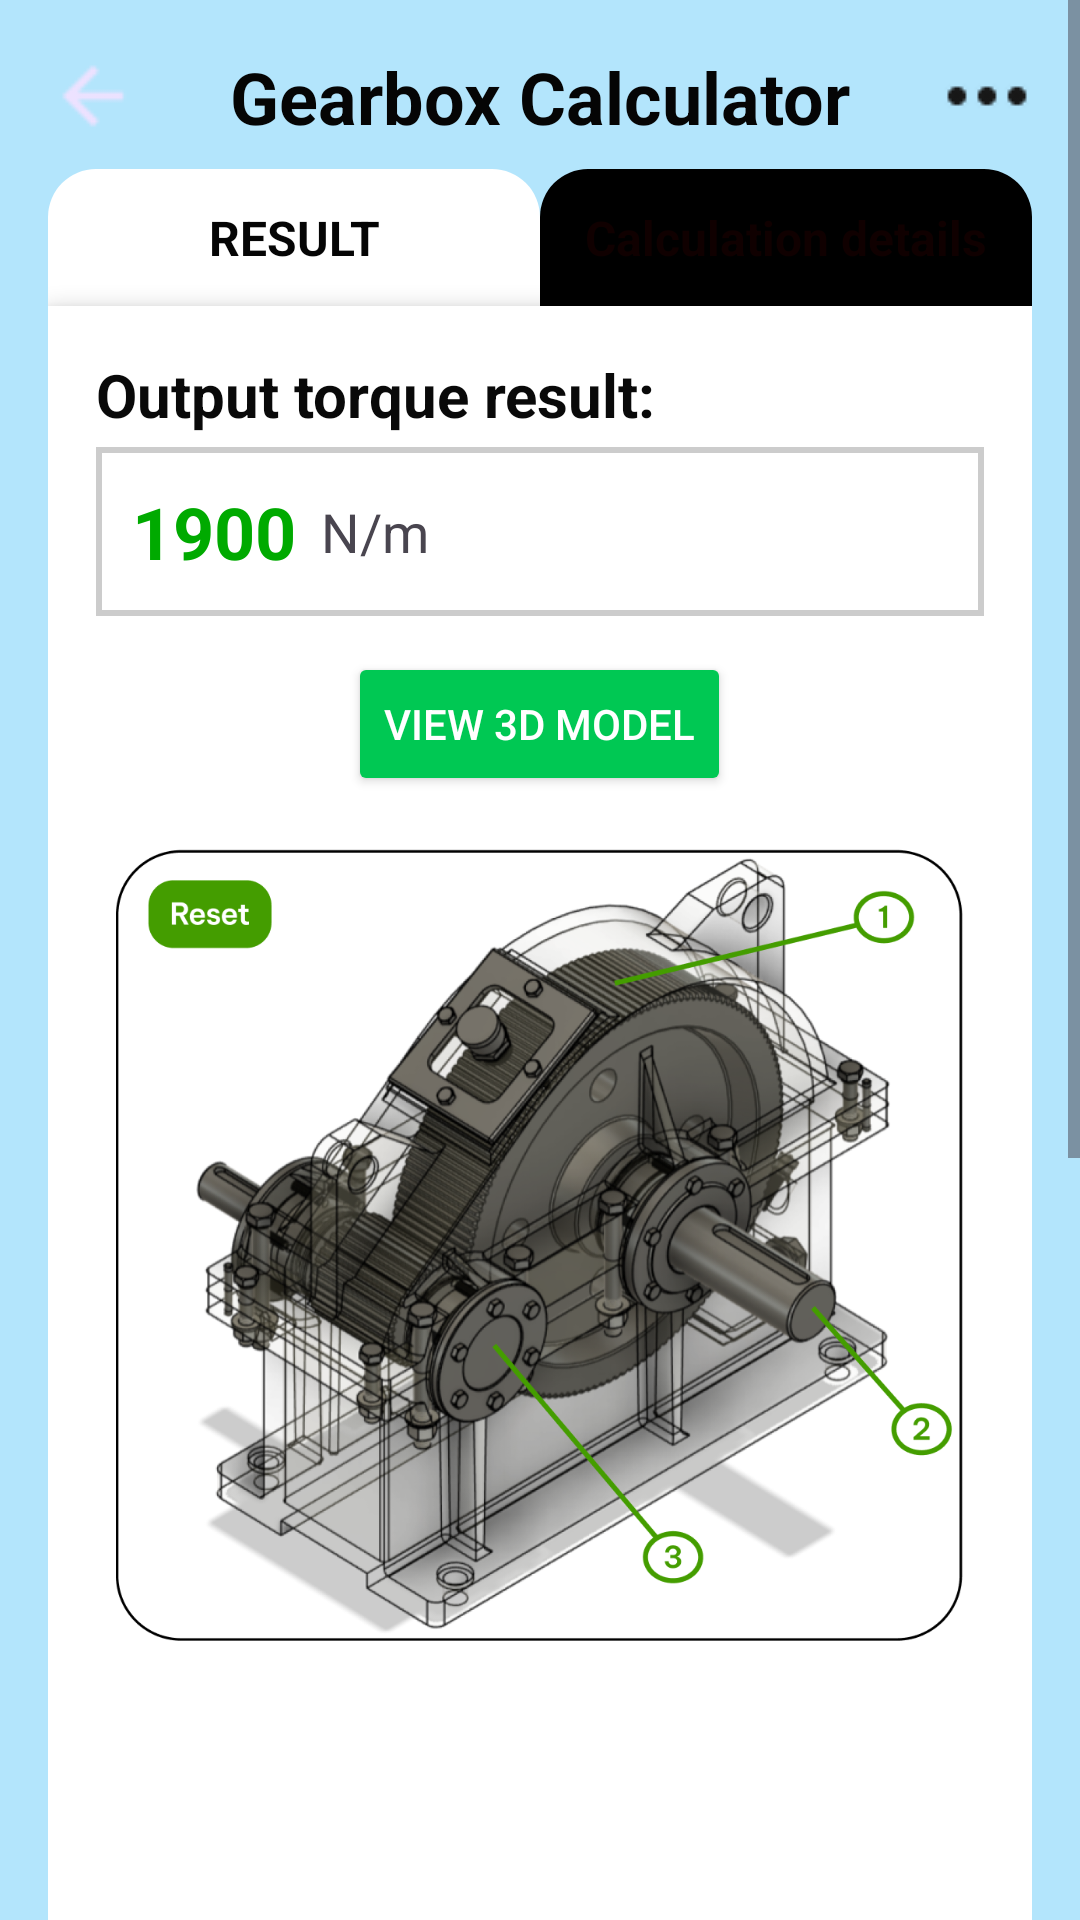

Where icons sit on this 1080px x 1920px app screen, as rect(x1, y1, x2, y2):
arrow back: rect(64, 67, 123, 125)
more: rect(947, 86, 1027, 106)
